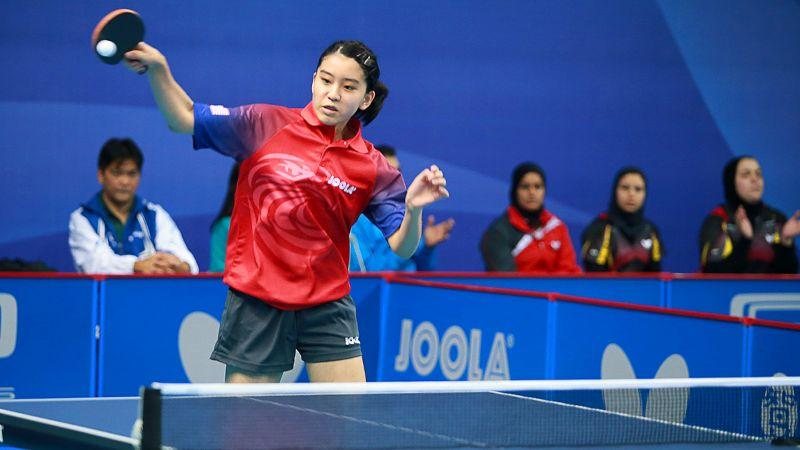ball_pingpong: (95, 41, 118, 60)
